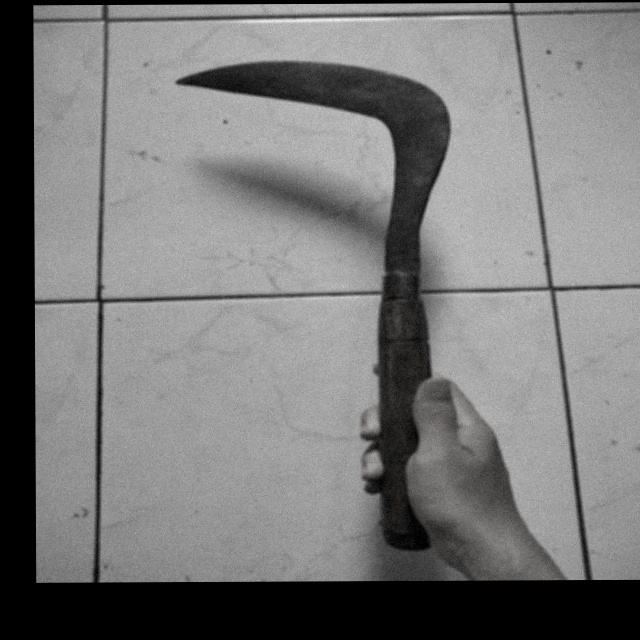Sharp-Object: (165, 32, 491, 565)
